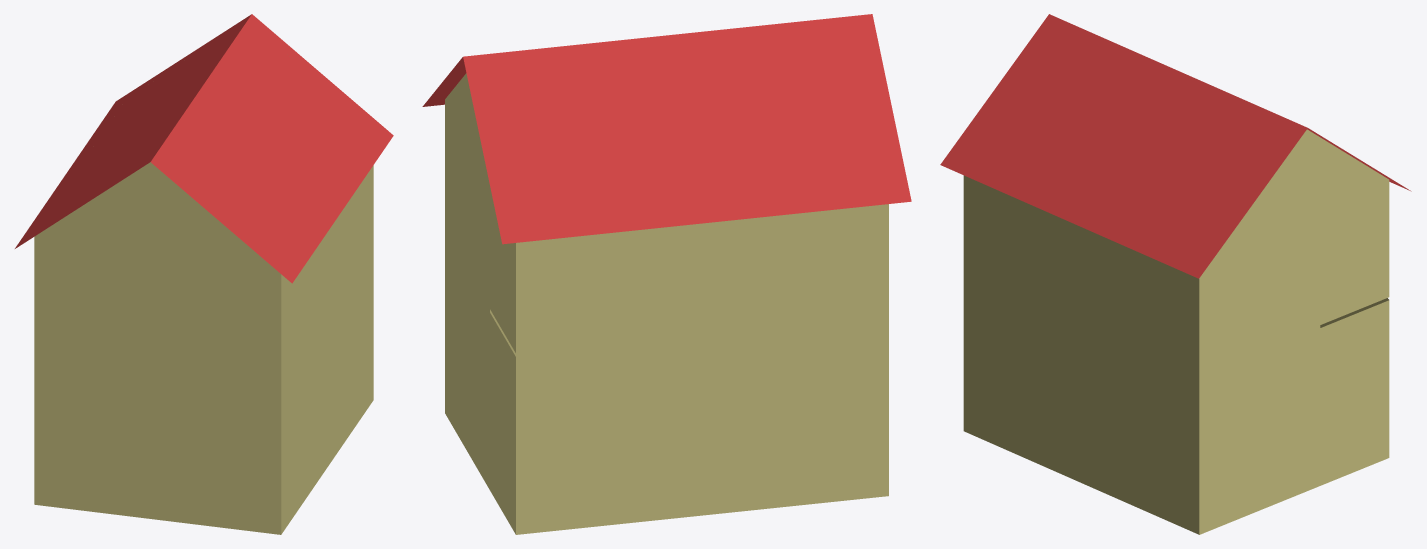
The picture shows the model from 3 angles, left to right: view 1: azimuth 30°, elevation 25°; view 2: azimuth 150°, elevation 25°; view 3: azimuth 270°, elevation 25°; orthographic projection. The views are drawn at different scales.
Bounding box in the file's own units: 14.34 × 14.28 × 12.42.
